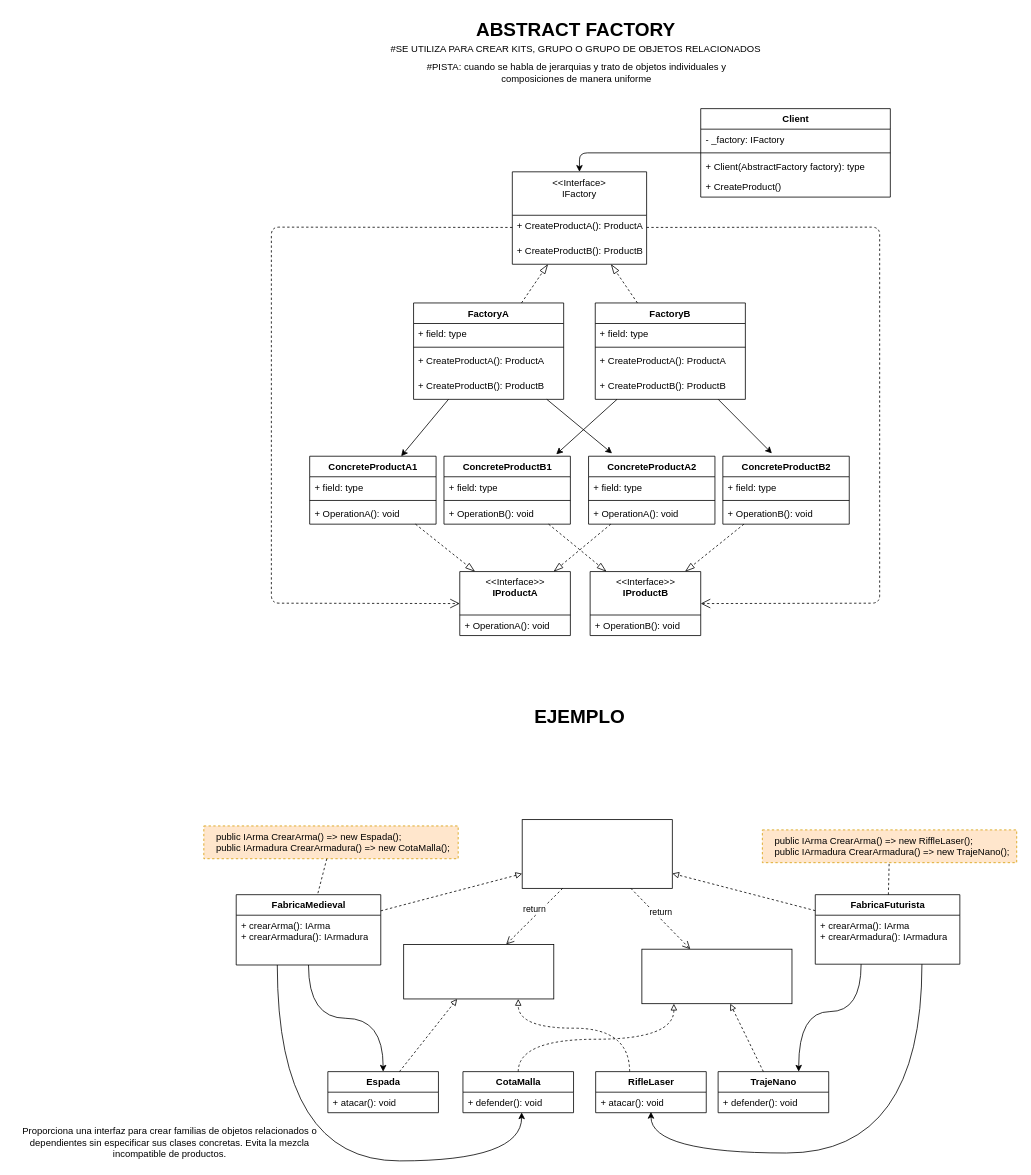
Some shapes in this 1031 by 1175 pixel diagram are drawn without their labels. The shapes that lost their labels are listed below. From the top down, each one's centre as x and y in pixels, then its label:
At (596,853): "<<Interface>> IFabrica + crearArma(): IArna + crearArmadura(): IArmadura".
At (478,971): "<<Interface>> IArma + atacar(): void".
At (716,976): "<<Interface>> IArmadura + defender(): void".
